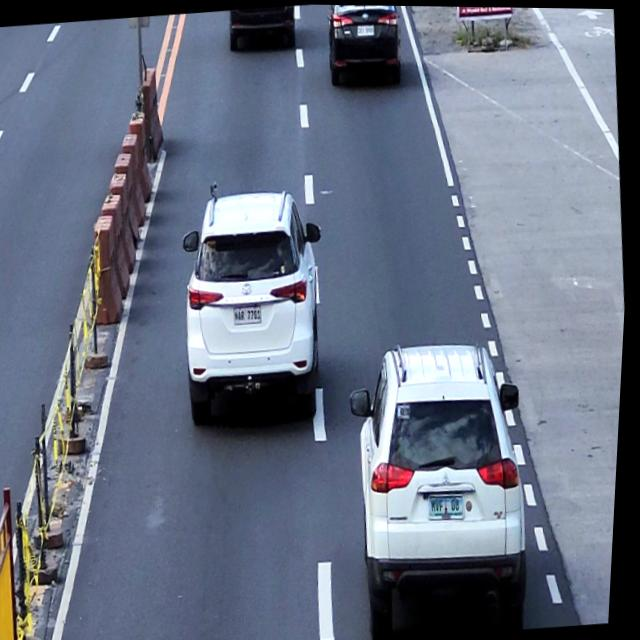Car: (339, 329, 547, 640), (173, 185, 342, 433), (324, 4, 404, 83), (227, 4, 297, 50)
License-Plate: (433, 491, 470, 518), (236, 304, 266, 324), (356, 23, 375, 36)
